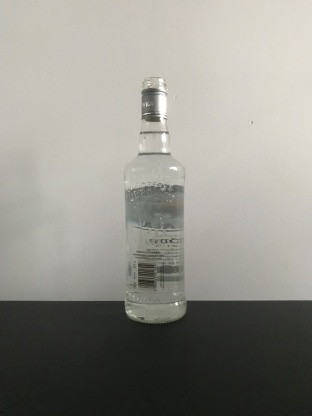nakretka: (139, 75, 169, 121)
